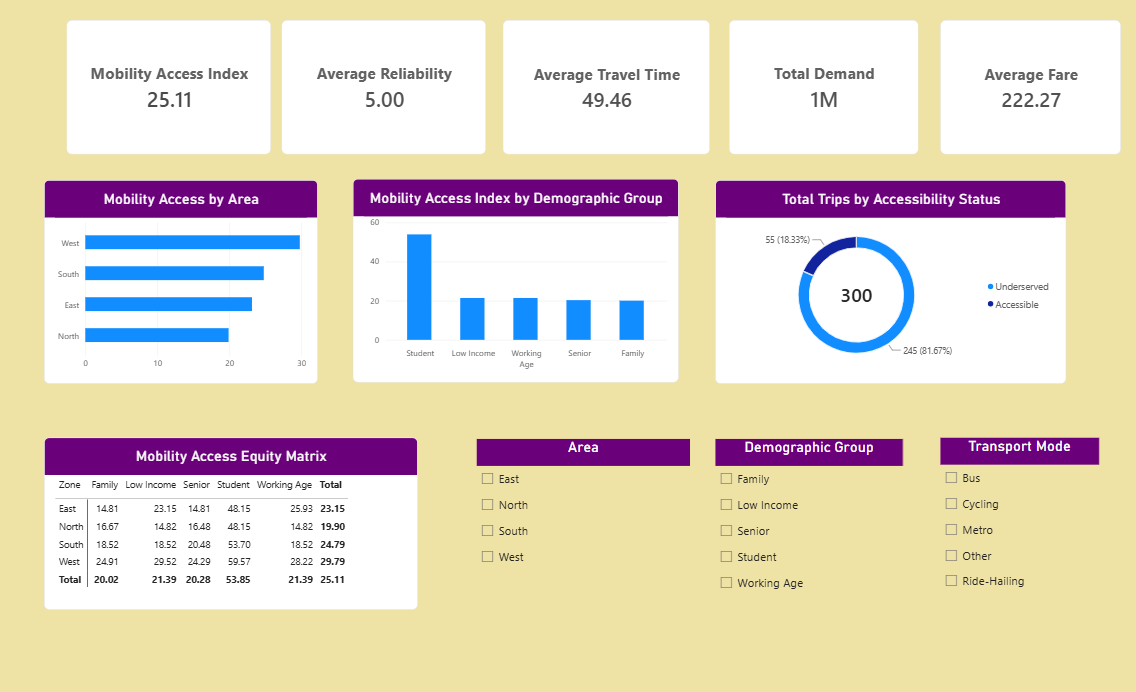

The dashboard page shown, as its layout file describes it:
{"tool":"powerbi","page":{"name":"Executive_dashboard","canvas":[1920,1080],"ordinal":4},"visuals":[{"type":"cardVisual","fields":{"Data":["FactMobilityTable.Mobility Access Index"]},"box":[165.6,66.3,301.8,198.8],"z":0},{"type":"cardVisual","fields":{"Data":["FactMobilityTable.Average Reliability"]},"box":[482.2,66.3,301.8,198.8],"z":1000},{"type":"cardVisual","fields":{"Data":["FactMobilityTable.Average Travel Time"]},"box":[808,66.3,305.5,198.8],"z":2000},{"type":"cardVisual","fields":{"Data":["FactMobilityTable.Total Demand"]},"box":[1141.1,66.3,279.8,198.8],"z":3000},{"type":"cardVisual","fields":{"Data":["FactMobilityTable.Average Fare"]},"box":[1452.2,66.3,266.9,198.8],"z":4000},{"type":"clusteredBarChart","title":"Mobility Access by Area","fields":{"Category":["Dim_Location.Area"],"Y":["FactMobilityTable.Mobility Access Index"]},"box":[132.5,301.8,403.1,300],"z":5000},{"type":"clusteredColumnChart","title":"Mobility Access Index by Demographic Group","fields":{"Y":["FactMobilityTable.Mobility Access Index"],"Category":["FactMobilityTable.Demographic_Group"]},"box":[587.1,300,480.4,300],"z":6000},{"type":"donutChart","title":"Total Trips by Accessibility Status","fields":{"Y":["FactMobilityTable.Total Trips"],"Category":["Dim_Location.Accessibility_Status"]},"box":[1120.9,301.8,517.2,300],"z":7000},{"type":"pivotTable","title":"Mobility Access Equity Matrix","fields":{"Rows":["Dim_Location.Zone"],"Columns":["FactMobilityTable.Demographic_Group"],"Values":["FactMobilityTable.Mobility Access Index"]},"box":[132.5,681,550.3,254],"z":8000},{"type":"slicer","title":"Area","fields":{"Values":["Dim_Location.Area"]},"box":[769.3,682.8,314.7,239.3],"z":9000},{"type":"slicer","title":"Demographic Group","fields":{"Values":["FactMobilityTable.Demographic_Group"]},"box":[1120.9,682.8,276.1,239.3],"z":10000},{"type":"slicer","title":"Transport Mode","fields":{"Values":["FactMobilityTable.Transport_Mode"]},"box":[1452.2,681,233.7,254],"z":11000}]}

Visuals, with their boxes on the page's 1920x1080 design canvas (x1, y1, x2, y2). These are canvas units, not pixel positions in the 1136x692 screenshot, which may show the page scaled, cropped or inside an application window:
cardVisual - FactMobilityTable.Mobility Access Index: {"left": 166, "top": 66, "right": 467, "bottom": 265}
cardVisual - FactMobilityTable.Average Reliability: {"left": 482, "top": 66, "right": 784, "bottom": 265}
cardVisual - FactMobilityTable.Average Travel Time: {"left": 808, "top": 66, "right": 1114, "bottom": 265}
cardVisual - FactMobilityTable.Total Demand: {"left": 1141, "top": 66, "right": 1421, "bottom": 265}
cardVisual - FactMobilityTable.Average Fare: {"left": 1452, "top": 66, "right": 1719, "bottom": 265}
"Mobility Access by Area" clusteredBarChart: {"left": 132, "top": 302, "right": 536, "bottom": 602}
"Mobility Access Index by Demographic Group" clusteredColumnChart: {"left": 587, "top": 300, "right": 1068, "bottom": 600}
"Total Trips by Accessibility Status" donutChart: {"left": 1121, "top": 302, "right": 1638, "bottom": 602}
"Mobility Access Equity Matrix" pivotTable: {"left": 132, "top": 681, "right": 683, "bottom": 935}
"Area" slicer: {"left": 769, "top": 683, "right": 1084, "bottom": 922}
"Demographic Group" slicer: {"left": 1121, "top": 683, "right": 1397, "bottom": 922}
"Transport Mode" slicer: {"left": 1452, "top": 681, "right": 1686, "bottom": 935}
